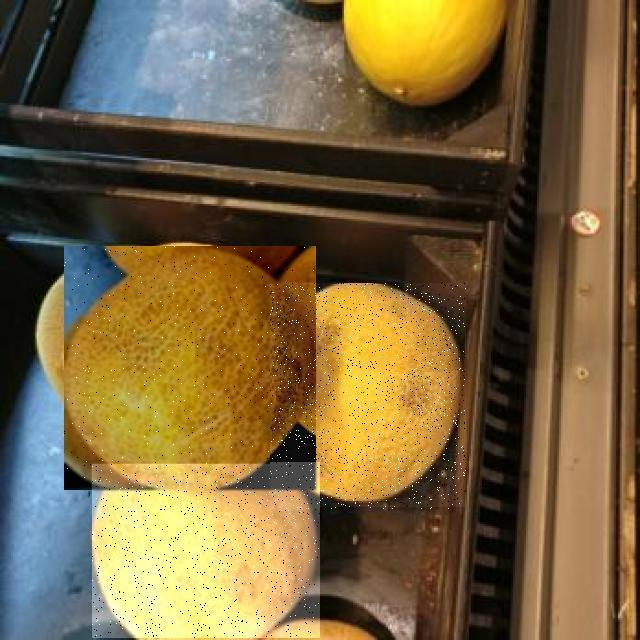Galia: (65, 246, 317, 490), (270, 284, 466, 510), (92, 464, 320, 638)
